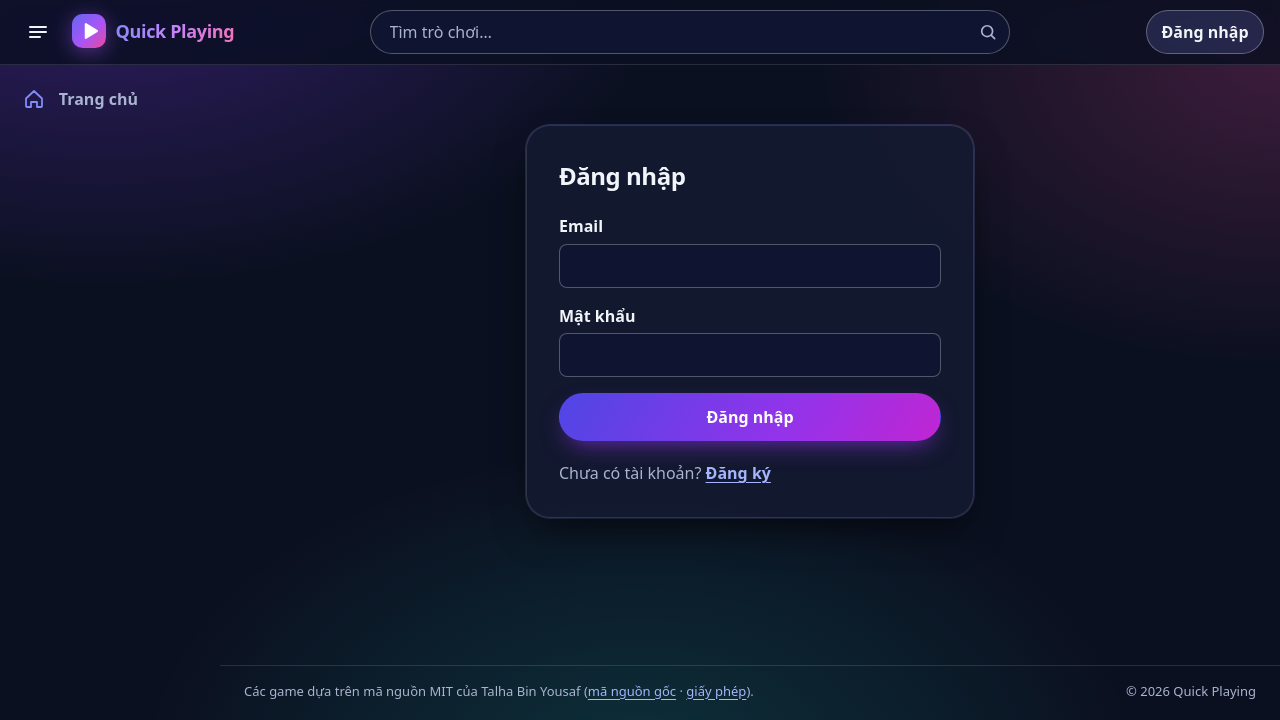
AC28 login page › 429 shows the rate limit message with the wait time
Type "lan@example.com" into the field with test id "login-email". click: {"x": 750, "y": 266}
box: [559,244,941,288]
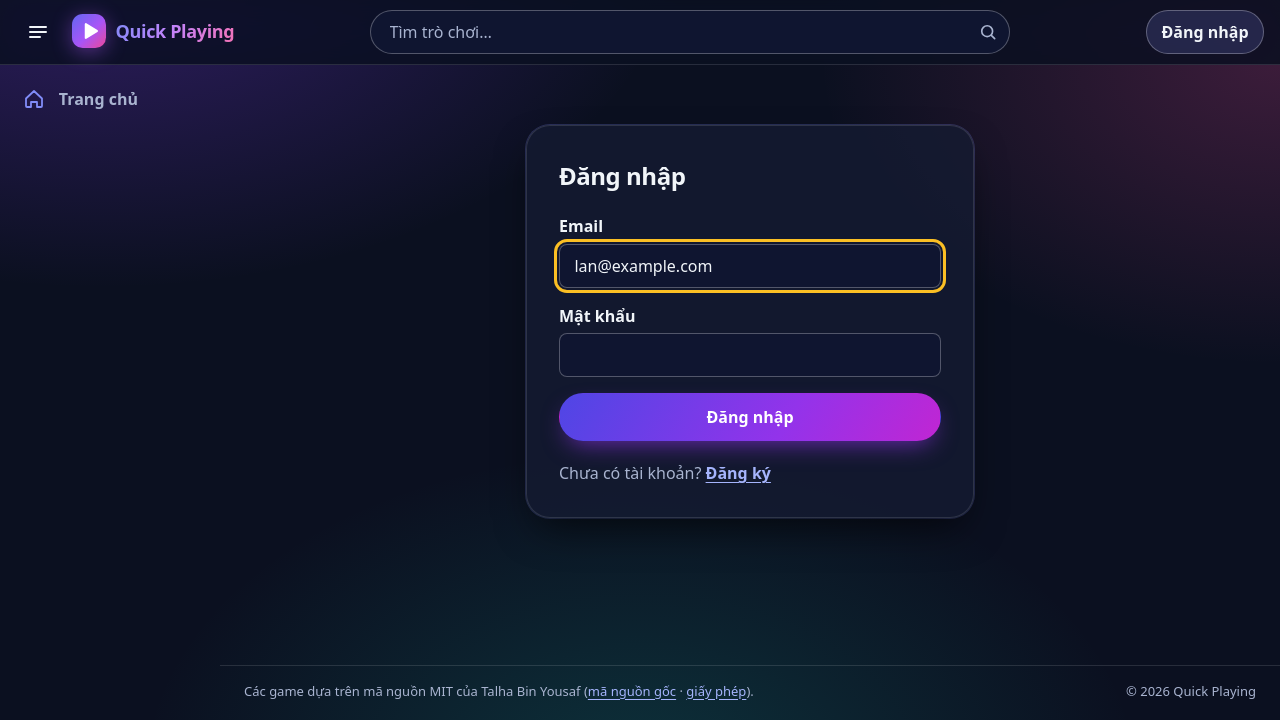
Type "mat-khau-dai-9" into the password field with test id "login-password". click: {"x": 750, "y": 355}
box: [559,333,941,377]
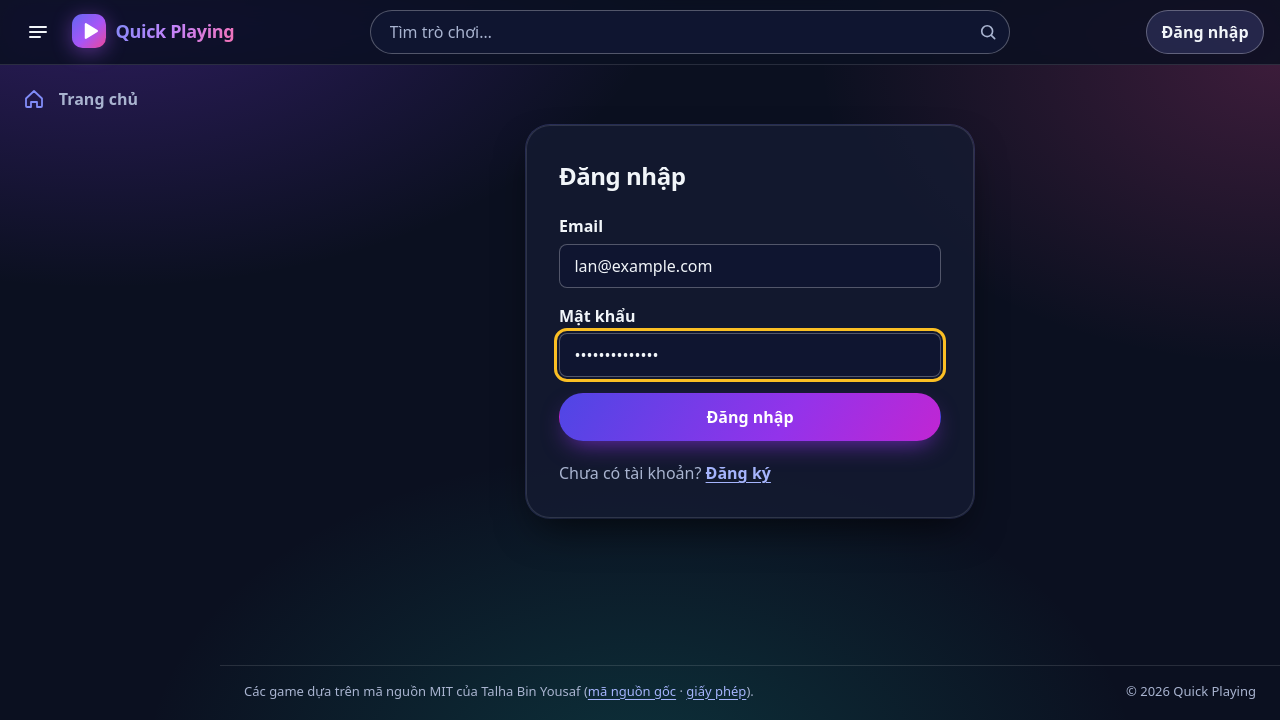
Click the button with test id "login-submit". click: {"x": 750, "y": 417}
box: [559,393,941,441]
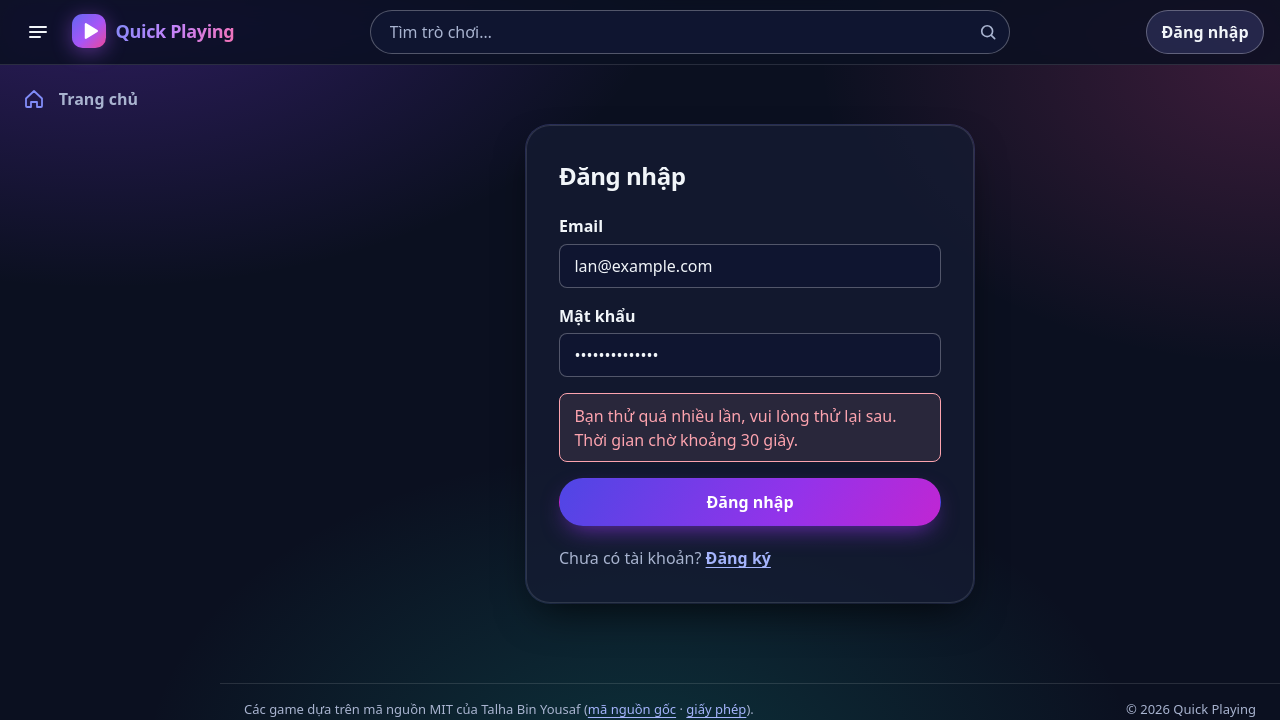
Result: the message with test id "login-error" shows "Bạn thử quá nhiều lần, vui lòng thử lại sau." at [574,405,896,451]
Result: the message with test id "login-error" shows "30 giây" at [574,405,896,451]
